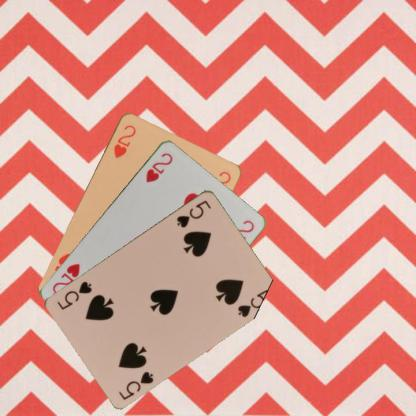2h: (143, 150, 174, 184), (110, 122, 138, 159)
5s: (116, 368, 155, 401), (174, 197, 213, 229)
